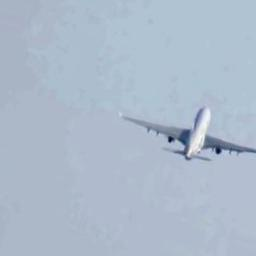Airplane: (116, 105, 256, 162)
